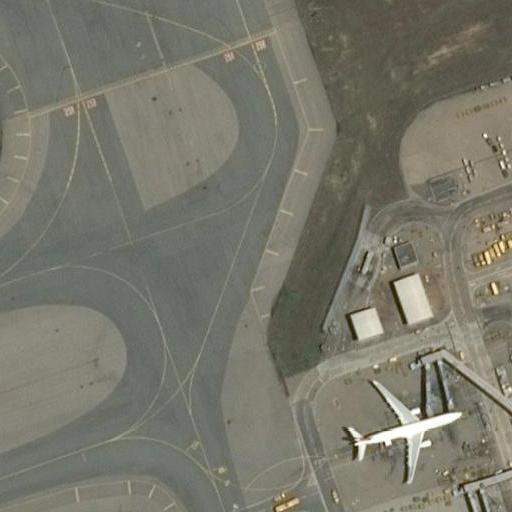Aircraft: (331, 364, 468, 486), (338, 375, 465, 484)
